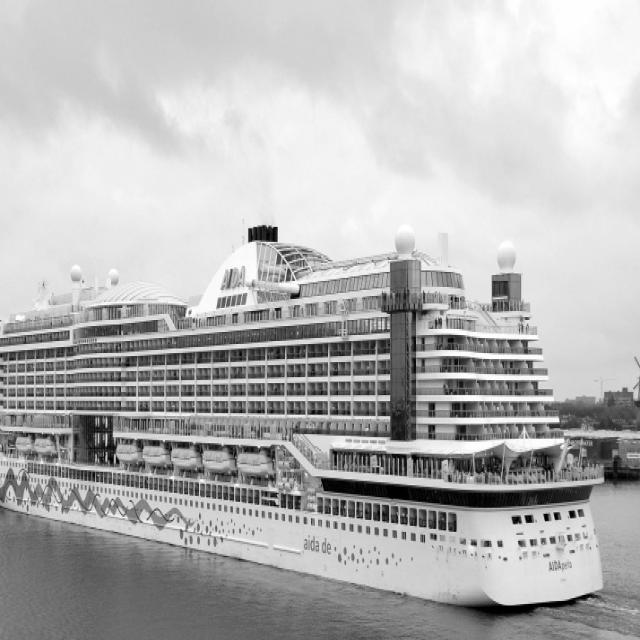cruises: (1, 220, 619, 623)
